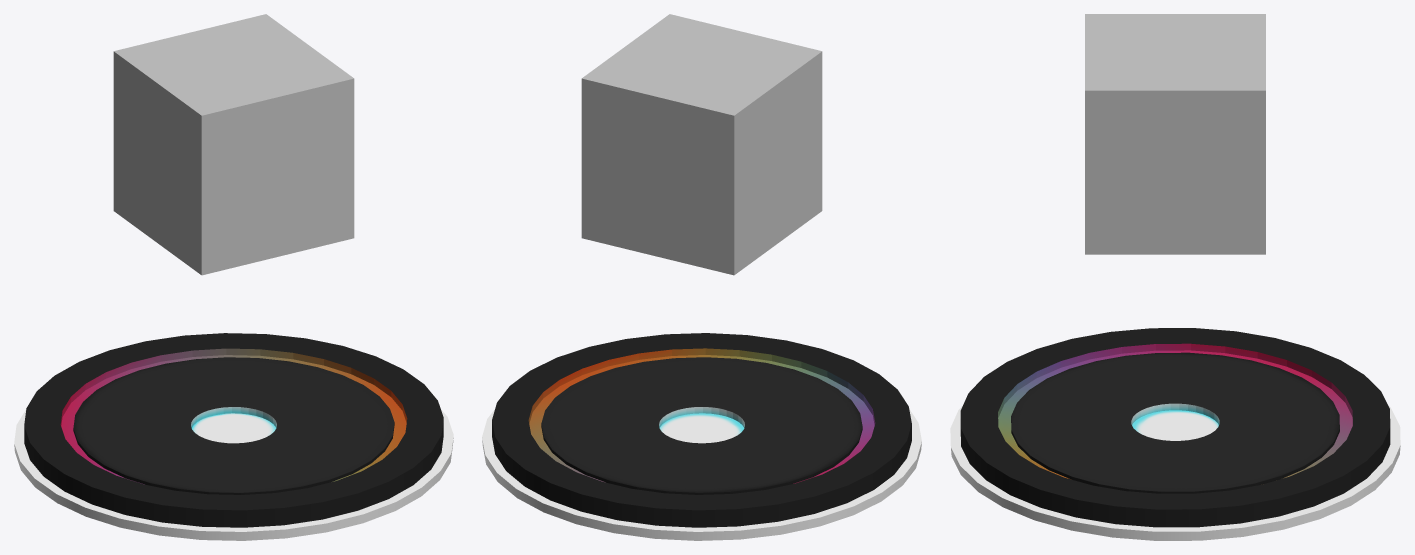
The model's file is Treasure.FBX.
The picture shows the model from 3 angles, left to right: view 1: azimuth 30°, elevation 25°; view 2: azimuth 150°, elevation 25°; view 3: azimuth 270°, elevation 25°; orthographic projection. The views are drawn at different scales.
Visible parts, largest first — view 1: Cylinder017, Object022; view 2: Cylinder017, Object022; view 3: Cylinder017, Object022.
Part boxes in pixels (x1,y1,x2,y2): Cylinder017: (14, 333, 453, 540); Object022: (113, 14, 354, 275); Cylinder017: (482, 333, 921, 540); Object022: (581, 14, 822, 275); Cylinder017: (950, 328, 1400, 540); Object022: (1085, 14, 1265, 254).
Size of the model in its own units: 14.38 by 14.38 by 13.89.
